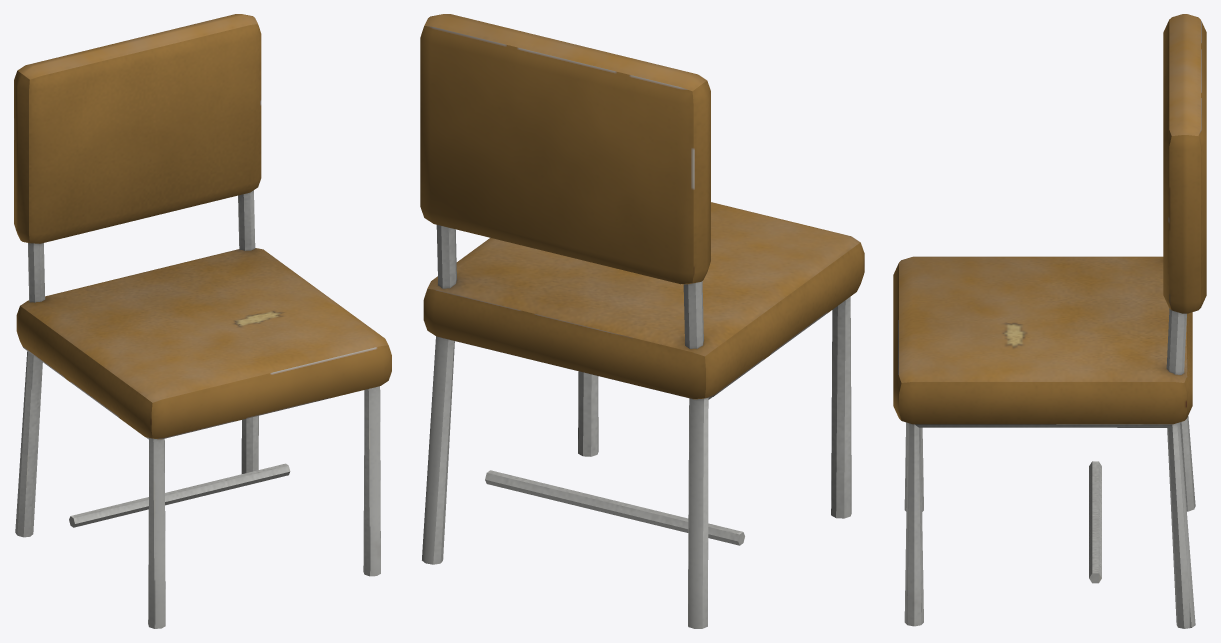
The model's file is H_DiningChair.fbx.
3 views of the same model, side by side, from view 1: azimuth 30°, elevation 25°; view 2: azimuth 150°, elevation 25°; view 3: azimuth 270°, elevation 25° (orthographic). The views are drawn at different scales.
Parts seen in each view (by area): view 1: H_DiningChair; view 2: H_DiningChair; view 3: H_DiningChair.
Boxes of the visible parts, bbox=[...] form: H_DiningChair: bbox=[14, 14, 391, 628]; H_DiningChair: bbox=[420, 14, 864, 628]; H_DiningChair: bbox=[893, 14, 1206, 628].
Bounding box in the file's own units: 190 × 339 × 194.
1 material, 1 textured.
